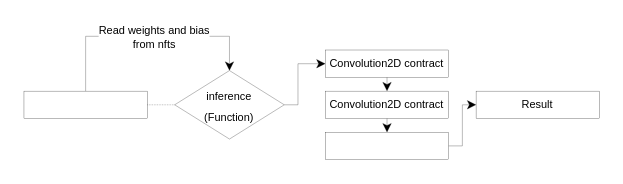
The diagram is 623 pixels wide and 184 high, and some of its shapes have lost their labels. Here are the shapes that lost their labels. From the top down, the box of each, then its label:
(23, 90, 147, 118): MNIST Contract (ERC721)
(325, 131, 448, 159): FullyConnectedLayer contract
